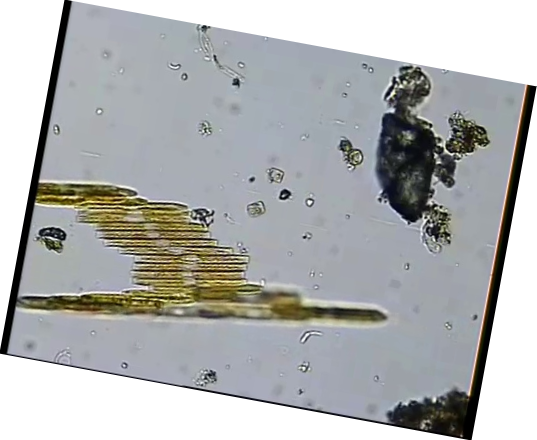Bacillaria: (133, 277, 245, 285), (133, 270, 245, 278), (133, 261, 245, 269), (133, 253, 245, 261), (121, 244, 233, 252), (105, 238, 217, 246), (100, 229, 212, 237), (82, 213, 194, 221)
